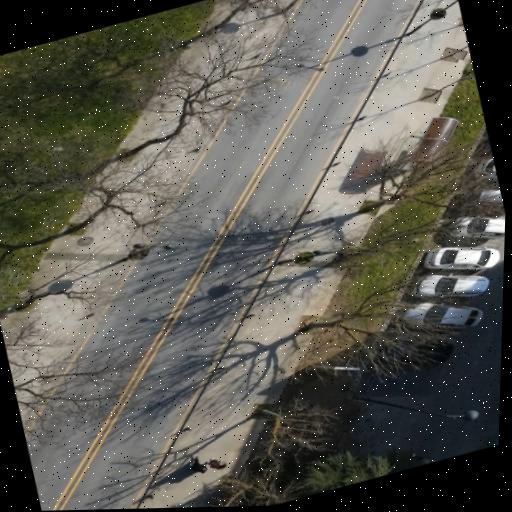car: (381, 340, 453, 371), (404, 302, 481, 328), (423, 247, 499, 270), (413, 274, 487, 297), (449, 216, 504, 239), (477, 189, 504, 210), (474, 158, 497, 182), (484, 137, 490, 149)
person: (190, 456, 207, 472), (205, 458, 226, 469)
